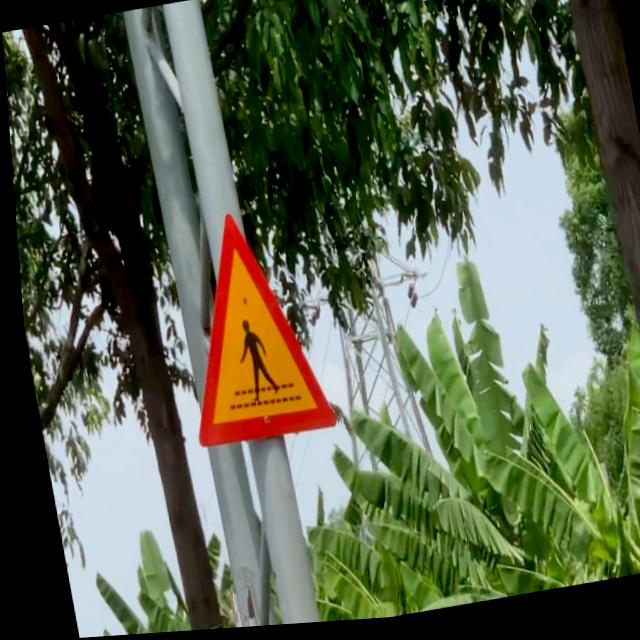Nguoi di bo cat ngang: (154, 198, 333, 456)
